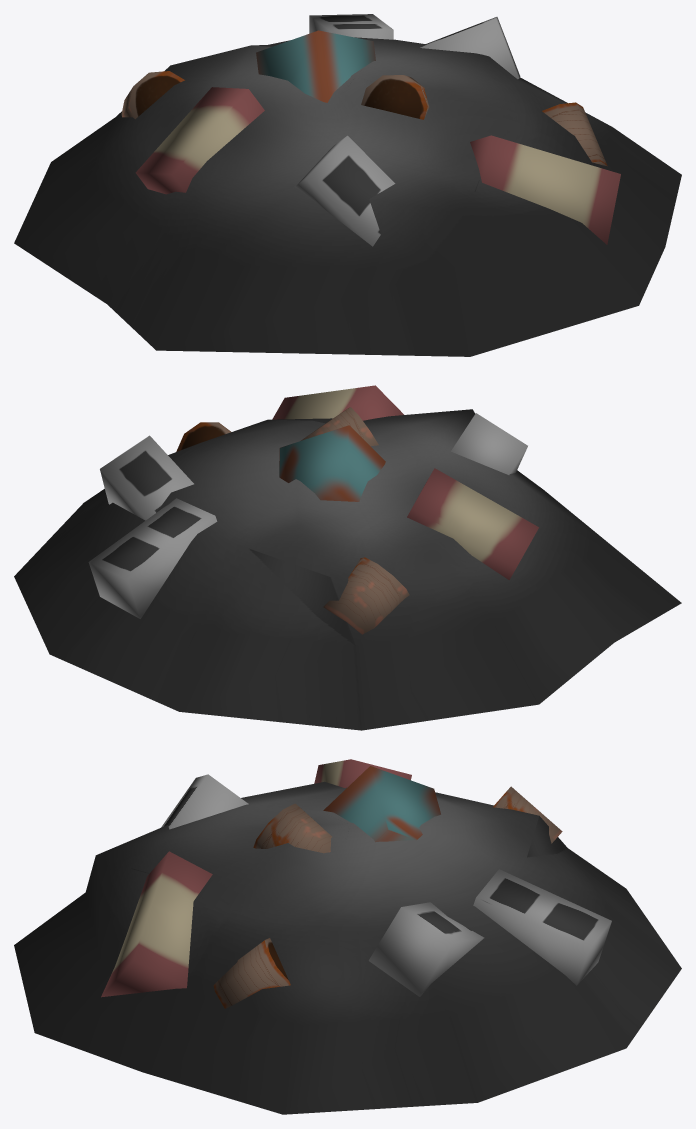
Rendered from Ruble Small.glb.
The picture shows the model from 3 angles, top to bottom: view 1: azimuth 30°, elevation 25°; view 2: azimuth 150°, elevation 25°; view 3: azimuth 270°, elevation 25°; orthographic projection. The views are drawn at different scales.
Visible parts, largest first — view 1: Ruble, Box, Bricks, Box2, Cans; view 2: Ruble, Bricks, Box, Box2, Cans; view 3: Ruble, Bricks, Box, Cans, Box2.
Boxes of the visible parts, box(x1,y1,x2,y2) form: Ruble: box(14, 37, 681, 356); Box: box(135, 87, 620, 244); Bricks: box(295, 14, 520, 246); Box2: box(256, 30, 375, 102); Cans: box(121, 71, 607, 166); Ruble: box(14, 409, 681, 730); Bricks: box(88, 413, 527, 618); Box: box(272, 385, 538, 579); Box2: box(279, 425, 385, 501); Cans: box(176, 407, 409, 634); Ruble: box(14, 781, 681, 1114); Bricks: box(161, 774, 611, 996); Box: box(101, 759, 411, 997); Cans: box(213, 786, 562, 1008); Box2: box(323, 766, 440, 842).
Bounding box in the file's own units: 1.48 × 0.4688 × 1.48.
5 materials, 5 textured.
